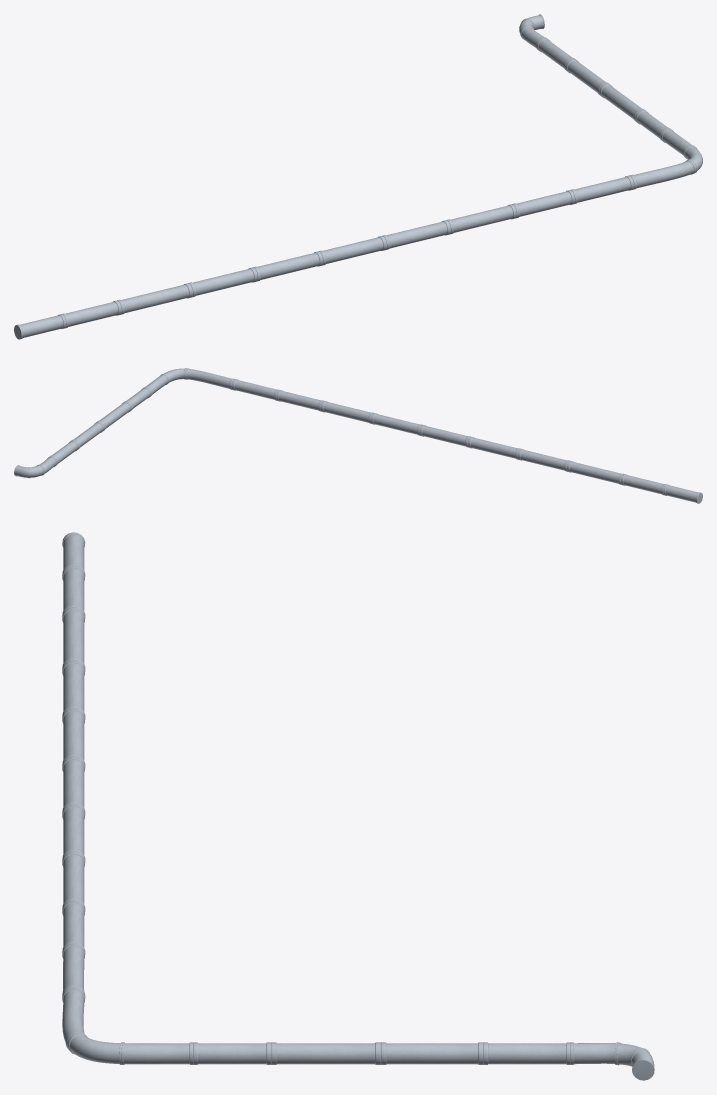
Rendered from SM_Tube_Splines_8.fbx.
3 renders of one model, top to bottom at view 1: azimuth 30°, elevation 25°; view 2: azimuth 150°, elevation 25°; view 3: azimuth 270°, elevation 25°, orthographic. The views are drawn at different scales.
Visible parts, largest first — view 1: SM_Tube_Splines_8; view 2: SM_Tube_Splines_8; view 3: SM_Tube_Splines_8.
Part boxes in pixels (x1,y1,x2,y2): SM_Tube_Splines_8: (14, 14, 702, 339); SM_Tube_Splines_8: (14, 368, 702, 503); SM_Tube_Splines_8: (62, 532, 654, 1080).
Size of the model in its own units: 781 by 370 by 14.56.
